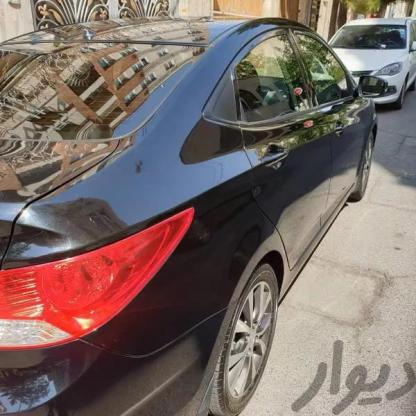Car: (0, 21, 416, 416), (319, 0, 416, 126)
